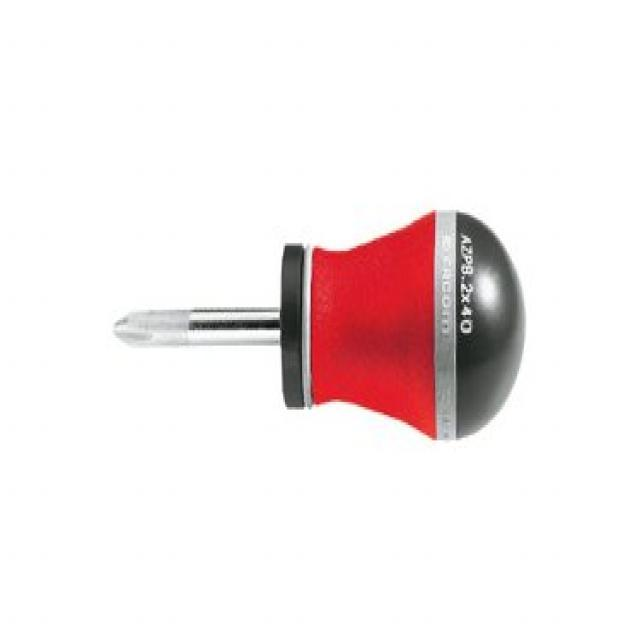screwdriver: (104, 183, 542, 472)
